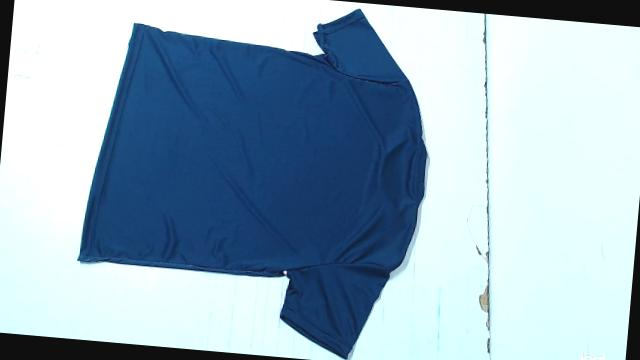new-garment: (78, 10, 427, 358)
